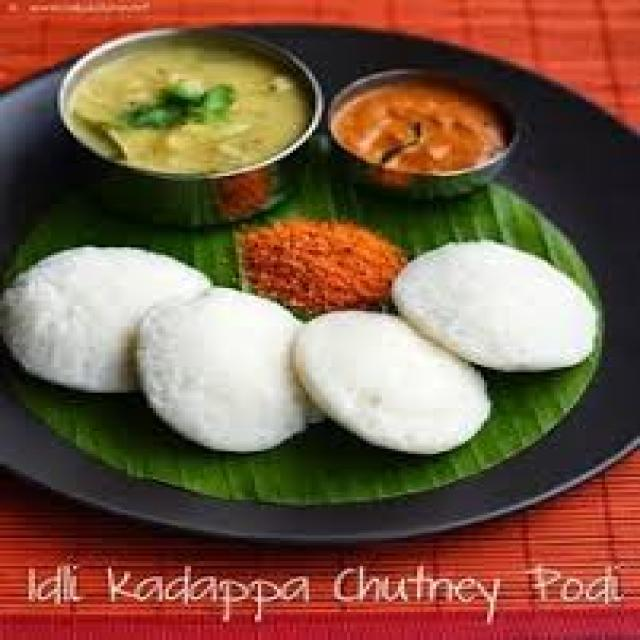IDLI: (288, 307, 494, 460), (0, 243, 218, 385), (132, 286, 317, 449), (399, 242, 598, 373)
